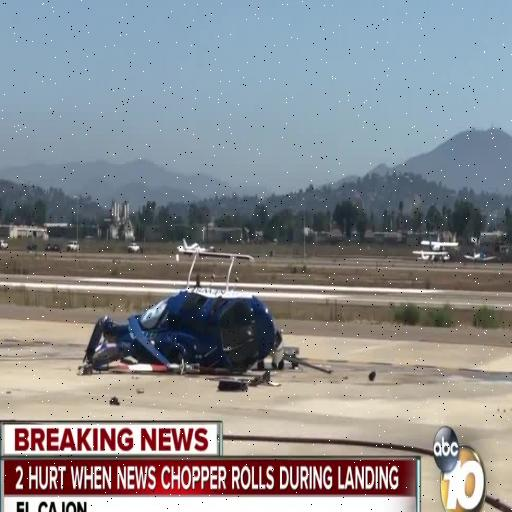helicopter: (76, 233, 309, 400)
